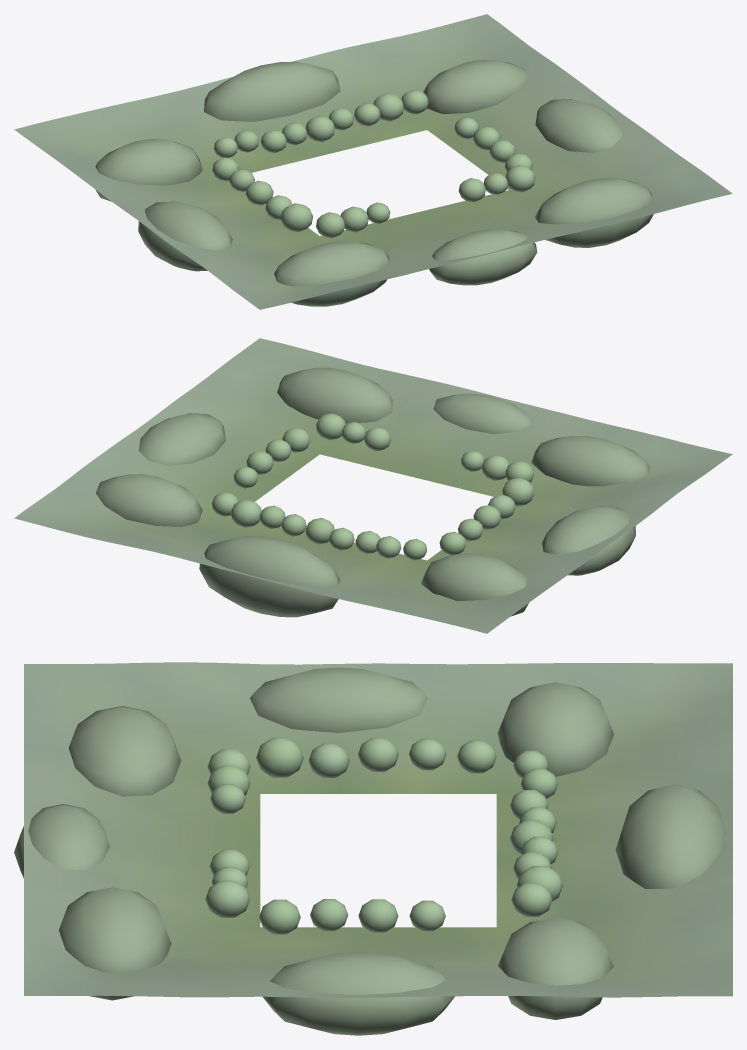
File: Kit_Backdrop_CalmRing_01.glb
3 renders of one model, top to bottom at view 1: azimuth 30°, elevation 25°; view 2: azimuth 150°, elevation 25°; view 3: azimuth 270°, elevation 25°, orthographic. The views are drawn at different scales.
Parts seen in each view (by area): view 1: EX_Backdrop_Grass, EX_Backdrop_Leaves; view 2: EX_Backdrop_Grass, EX_Backdrop_Leaves; view 3: EX_Backdrop_Grass, EX_Backdrop_Leaves.
Boxes of the visible parts, left/top/right/bottom form: EX_Backdrop_Grass: left=14, top=14, right=732, bottom=309; EX_Backdrop_Leaves: left=212, top=89, right=535, bottom=238; EX_Backdrop_Grass: left=14, top=338, right=732, bottom=633; EX_Backdrop_Leaves: left=211, top=413, right=534, bottom=560; EX_Backdrop_Grass: left=14, top=662, right=732, bottom=1035; EX_Backdrop_Leaves: left=205, top=737, right=562, bottom=934.
Bounding box in the file's own units: 80 × 11 × 73.
